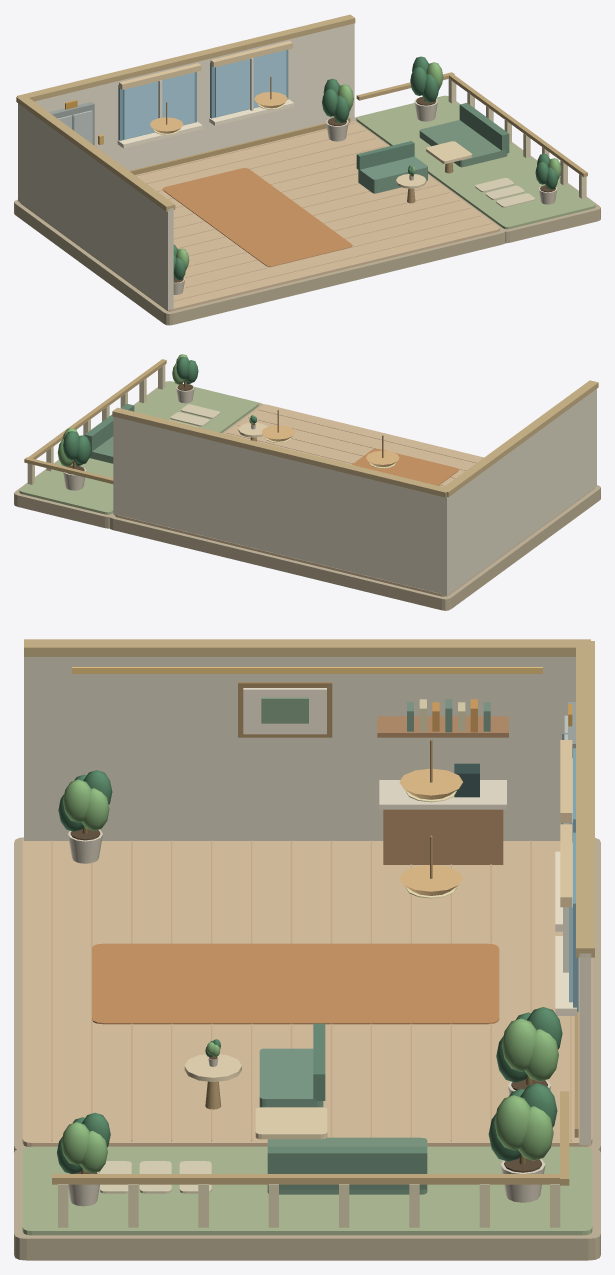
Rendered from room-signature-wing.glb.
3 views of the same model, one above another, from view 1: azimuth 30°, elevation 25°; view 2: azimuth 150°, elevation 25°; view 3: azimuth 270°, elevation 25° (orthographic). The views are drawn at different scales.
Visible parts, largest first — view 1: room-signature-wing; view 2: room-signature-wing; view 3: room-signature-wing.
Part boxes in pixels (x1,y1,x2,y2): room-signature-wing: (14,14,600,325); room-signature-wing: (14,354,600,610); room-signature-wing: (14,639,600,1260).
Size of the model in its own units: 11.9 by 3.05 by 7.35.
